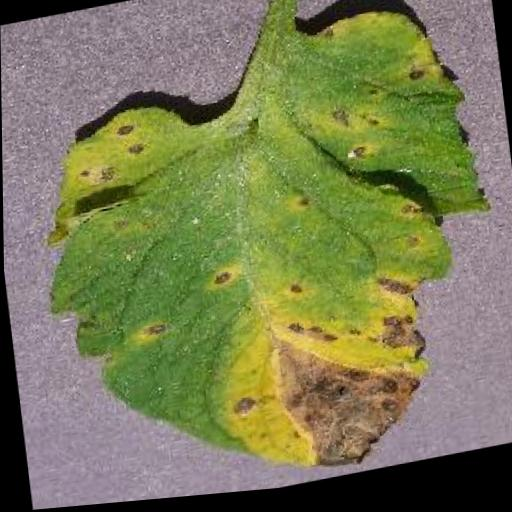Septoria: (19, 0, 512, 511)
